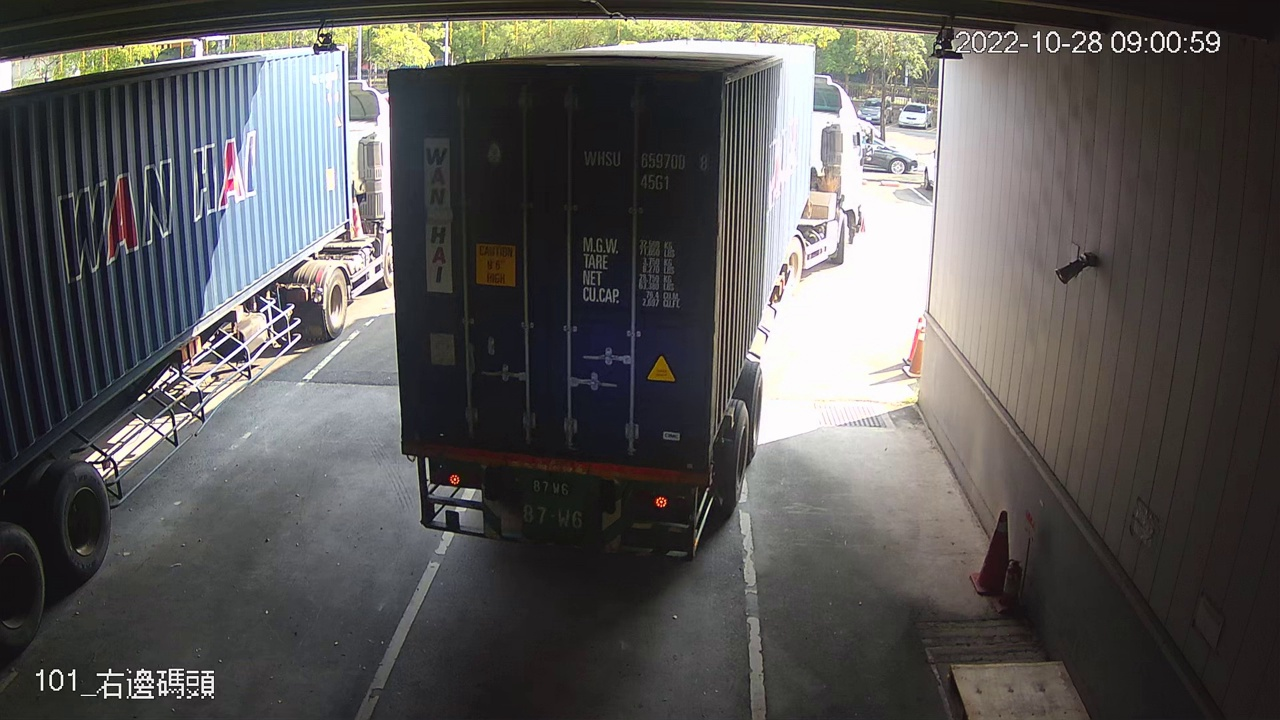container: (580, 144, 715, 194)
